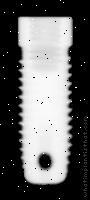Nobel Biocare: (18, 17, 73, 185)
